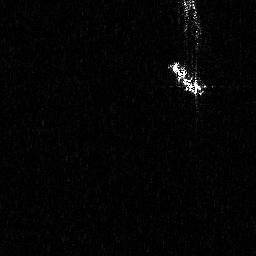ship: (166, 55, 219, 111)
